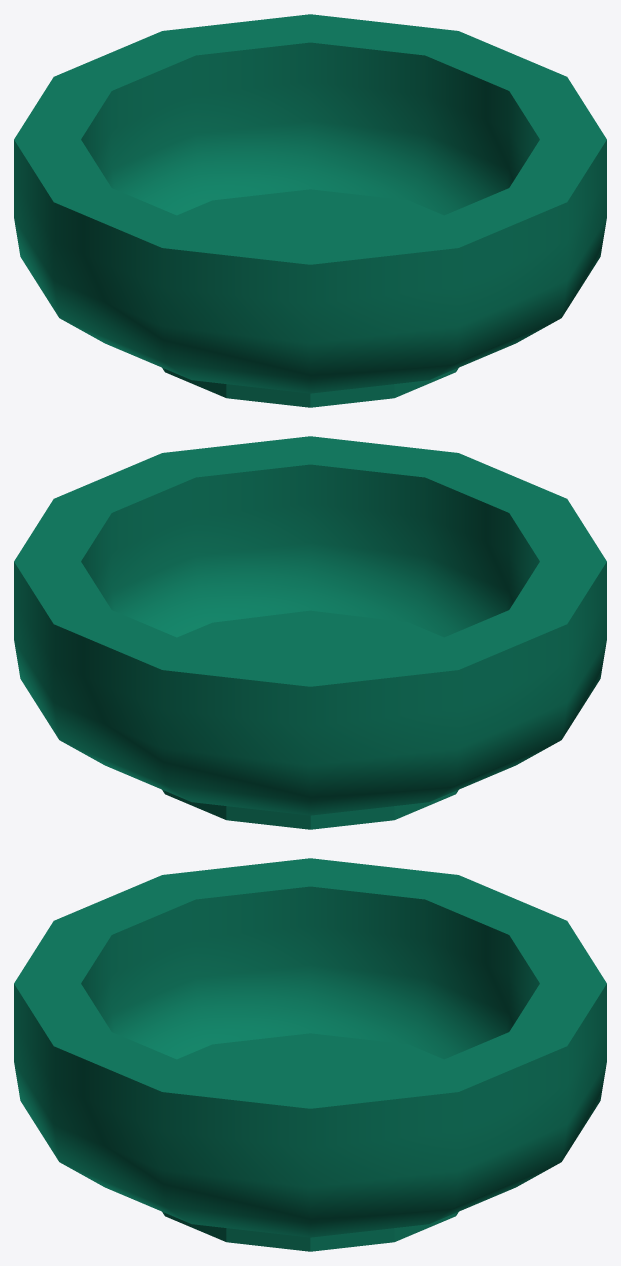
File: Maceta.FBX
3 views of the same model, one above another, from view 1: azimuth 30°, elevation 25°; view 2: azimuth 150°, elevation 25°; view 3: azimuth 270°, elevation 25° (orthographic).
Parts seen in each view (by area): view 1: G_Maceta; view 2: G_Maceta; view 3: G_Maceta.
Part boxes in pixels (bbox=[...]): G_Maceta: bbox=[14, 14, 606, 407]; G_Maceta: bbox=[14, 436, 606, 829]; G_Maceta: bbox=[14, 858, 606, 1251].
Bounding box in the file's own units: 23.4 × 8.59 × 23.4.
